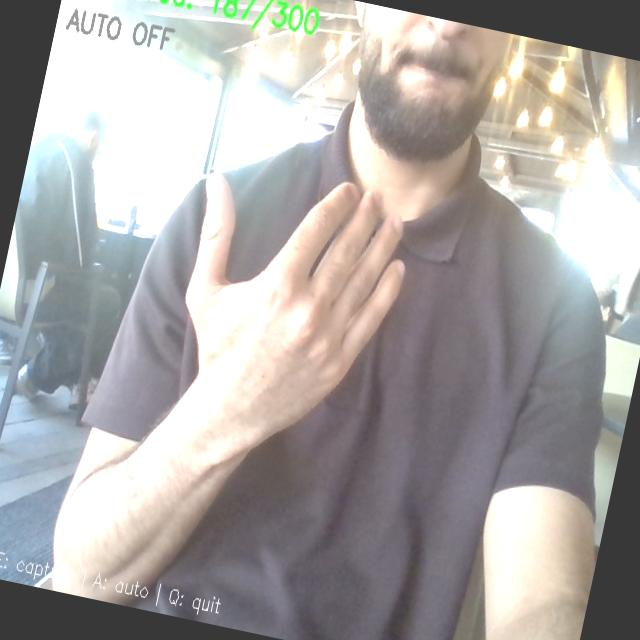Hand: (186, 175, 403, 449)
